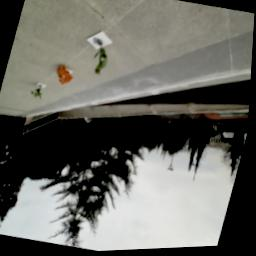herb: (89, 44, 114, 80), (31, 84, 48, 103)
wild: (54, 64, 78, 89)
